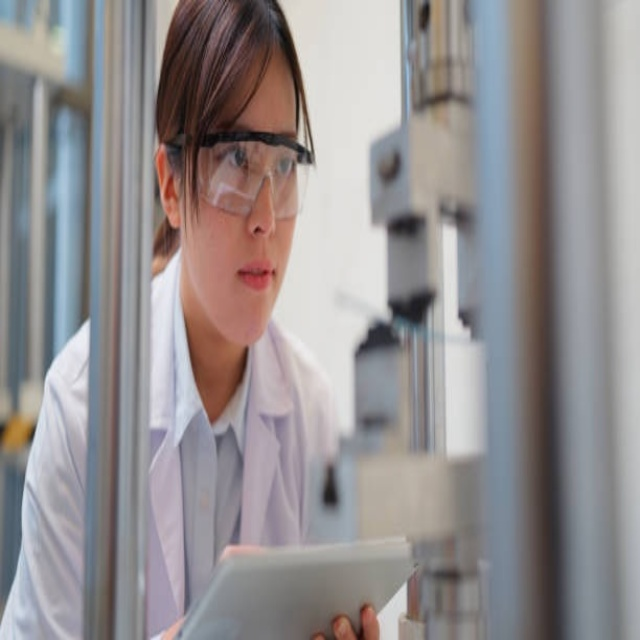Gafas: (168, 135, 313, 221)
Sin_mascara: (224, 249, 279, 322)
